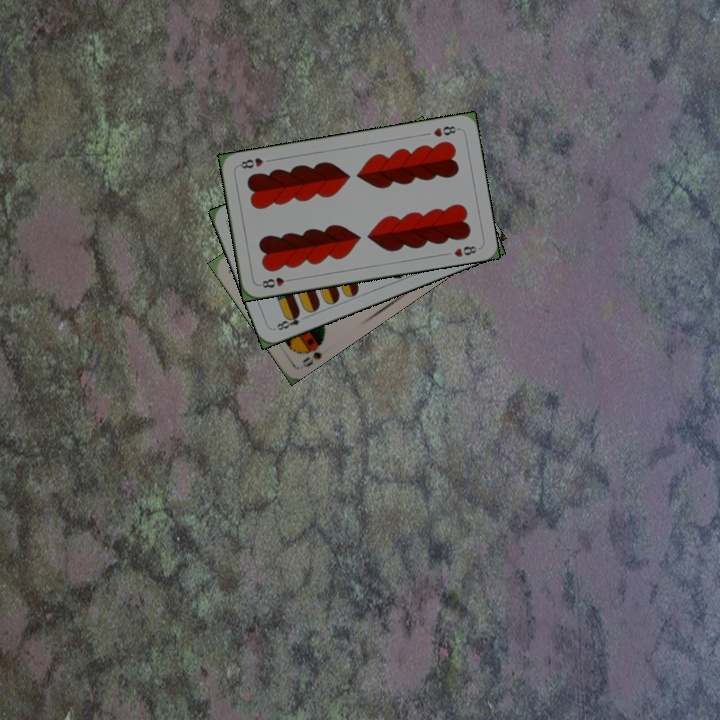E8: (271, 308, 303, 333)
H8: (255, 273, 296, 291), (429, 122, 461, 140)
SO: (296, 335, 327, 370)
